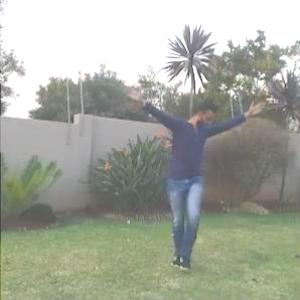takeoff: (125, 85, 270, 278)
